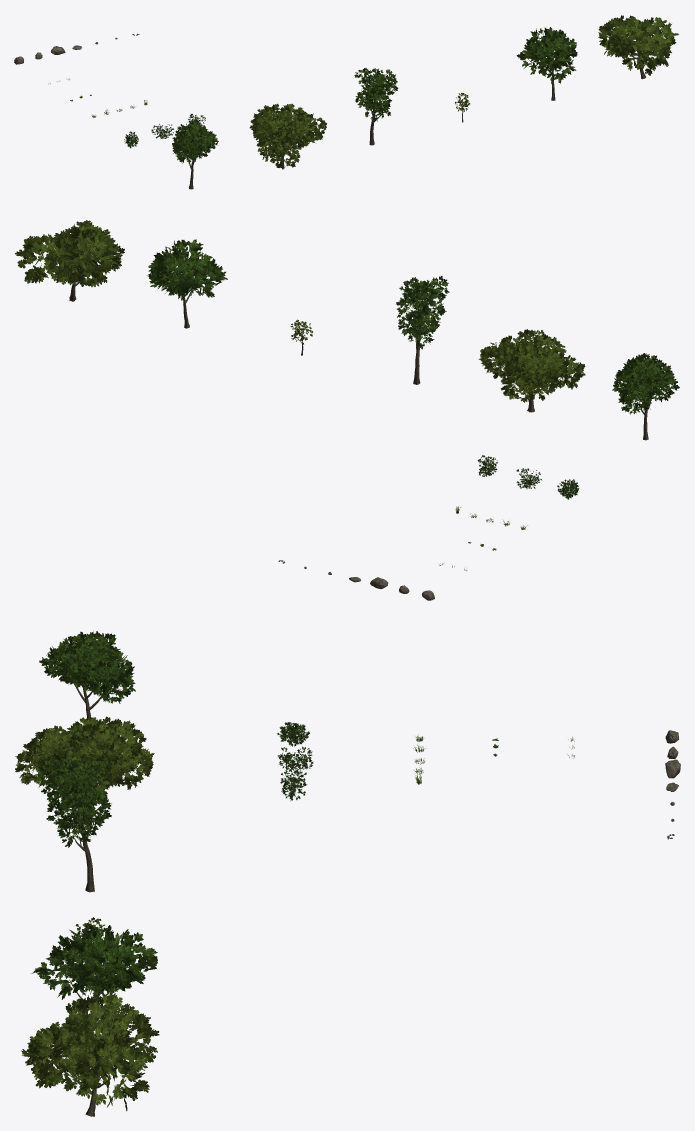
Rendered from hyperiux-garden-assets.glb.
The picture shows the model from 3 angles, top to bottom: view 1: azimuth 30°, elevation 25°; view 2: azimuth 150°, elevation 25°; view 3: azimuth 270°, elevation 25°; orthographic projection. The views are drawn at different scales.
Parts seen in each view (by area): view 1: Tree_FarB_LeafCluster_05, Tree_FarB_LeafCluster_02, Tree_FarA_LeafCluster_04, Tree_FarA_LeafCluster_06, Tree_FarB_LeafCluster_08, Tree_FarA_LeafCluster_01, Tree_B_LeafCluster_08, Tree_FarB_LeafCluster_11, Tree_FarA_LeafCluster_08, Tree_B_LeafCluster_16, Tree_FarB_LeafCluster_10, Tree_B_LeafCluster_07 (+7 smaller); view 2: Tree_FarB_LeafCluster_06, Tree_FarB_LeafCluster_04, Tree_FarA_LeafCluster_07, Tree_FarB_LeafCluster_05, Tree_FarA_LeafCluster_04, Tree_FarA_LeafCluster_08, Tree_FarB_LeafCluster_12, Tree_FarB_LeafCluster_09, Tree_FarA_LeafCluster_06, Tree_FarB_LeafCluster_11, Tree_B_LeafCluster_13; view 3: Tree_FarB_LeafCluster_04, Tree_FarA_LeafCluster_06, Tree_FarA_LeafCluster_07, Tree_FarA_LeafCluster_08, Tree_FarB_LeafCluster_08, Tree_FarB_LeafCluster_03, Tree_FarB_LeafCluster_12, Tree_FarB_LeafCluster_11, Tree_FarB_LeafCluster_01, Tree_FarB_LeafCluster_09, Tree_B_LeafCluster_21, Tree_FarB_LeafCluster_05 (+7 smaller).
Boxes of the visible parts, left/top/right/bottom form: Tree_FarB_LeafCluster_05: left=599, top=18, right=636, bottom=57; Tree_FarB_LeafCluster_02: left=622, top=42, right=662, bottom=75; Tree_FarA_LeafCluster_04: left=516, top=39, right=555, bottom=76; Tree_FarA_LeafCluster_06: left=542, top=30, right=577, bottom=65; Tree_FarB_LeafCluster_08: left=636, top=31, right=672, bottom=65; Tree_FarA_LeafCluster_01: left=538, top=50, right=576, bottom=84; Tree_B_LeafCluster_08: left=269, top=142, right=300, bottom=169; Tree_FarB_LeafCluster_11: left=610, top=19, right=648, bottom=47; Tree_FarA_LeafCluster_08: left=528, top=30, right=571, bottom=70; Tree_B_LeafCluster_16: left=288, top=117, right=316, bottom=143; Tree_FarB_LeafCluster_10: left=608, top=19, right=648, bottom=56; Tree_B_LeafCluster_07: left=257, top=137, right=285, bottom=163; Tree_FarB_LeafCluster_06: left=59, top=238, right=112, bottom=287; Tree_FarB_LeafCluster_04: left=15, top=234, right=68, bottom=283; Tree_FarA_LeafCluster_07: left=147, top=249, right=195, bottom=297; Tree_FarB_LeafCluster_05: left=66, top=228, right=121, bottom=278; Tree_FarA_LeafCluster_04: left=176, top=255, right=227, bottom=297; Tree_FarA_LeafCluster_08: left=148, top=248, right=210, bottom=300; Tree_FarB_LeafCluster_12: left=45, top=228, right=102, bottom=286; Tree_FarB_LeafCluster_09: left=43, top=238, right=91, bottom=285; Tree_FarA_LeafCluster_06: left=161, top=239, right=212, bottom=285; Tree_FarB_LeafCluster_11: left=60, top=225, right=114, bottom=267; Tree_B_LeafCluster_13: left=502, top=345, right=541, bottom=380; Tree_FarB_LeafCluster_04: left=72, top=1041, right=149, bottom=1111; Tree_FarA_LeafCluster_06: left=46, top=928, right=123, bottom=988; Tree_FarA_LeafCluster_07: left=86, top=929, right=157, bottom=987; Tree_FarA_LeafCluster_08: left=73, top=934, right=146, bottom=998; Tree_FarB_LeafCluster_08: left=22, top=1023, right=90, bottom=1077; Tree_FarB_LeafCluster_03: left=82, top=1040, right=145, bottom=1100; Tree_FarB_LeafCluster_12: left=54, top=1019, right=140, bottom=1080; Tree_FarB_LeafCluster_11: left=62, top=998, right=129, bottom=1055; Tree_FarB_LeafCluster_01: left=37, top=1029, right=110, bottom=1091; Tree_FarB_LeafCluster_09: left=91, top=1017, right=159, bottom=1068; Tree_B_LeafCluster_21: left=81, top=742, right=134, bottom=790; Tree_FarB_LeafCluster_05: left=67, top=993, right=141, bottom=1048.
Size of the model in its own units: 79.03 by 11.96 by 52.69.
Materials: 9 (4 with a texture image).
